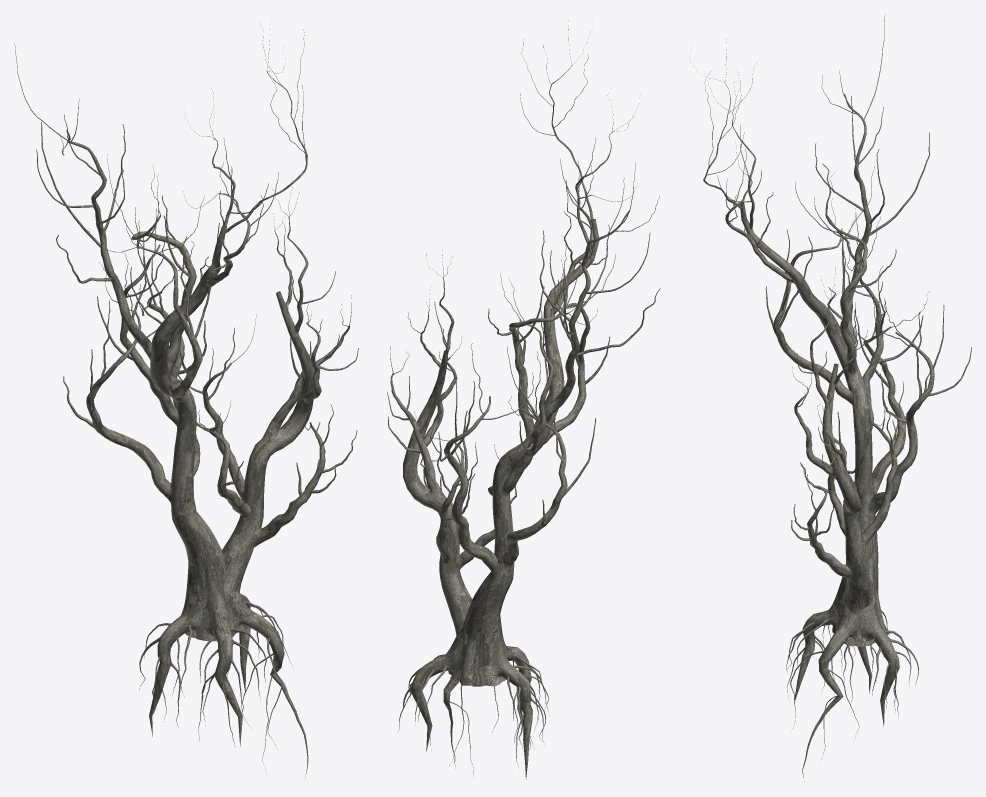
File: dead-tree1.glb
The picture shows the model from 3 angles, left to right: view 1: azimuth 30°, elevation 25°; view 2: azimuth 150°, elevation 25°; view 3: azimuth 270°, elevation 25°; orthographic projection. The views are drawn at different scales.
Visible parts, largest first — view 1: Object_4; view 2: Object_4; view 3: Object_4.
Part boxes in pixels (left/top/right/bottom): Object_4: left=14, top=24, right=358, bottom=778; Object_4: left=387, top=20, right=660, bottom=779; Object_4: left=692, top=14, right=971, bottom=781.
Size of the model in its own units: 4.54 by 11.54 by 4.14.
Materials: 1 (1 with a texture image).
